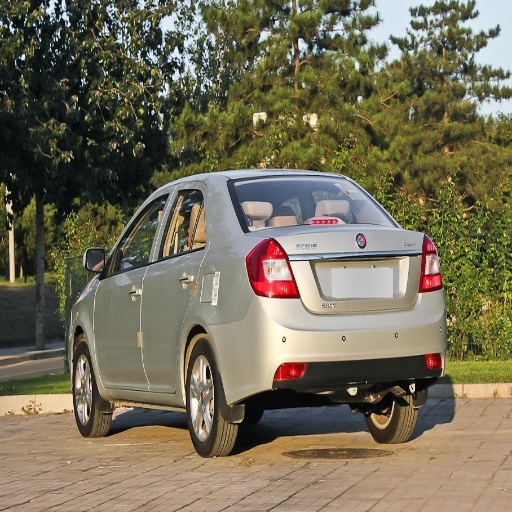back_bumper: (212, 290, 445, 401)
back_glass: (228, 177, 380, 226)
back_left_door: (143, 186, 207, 393)
